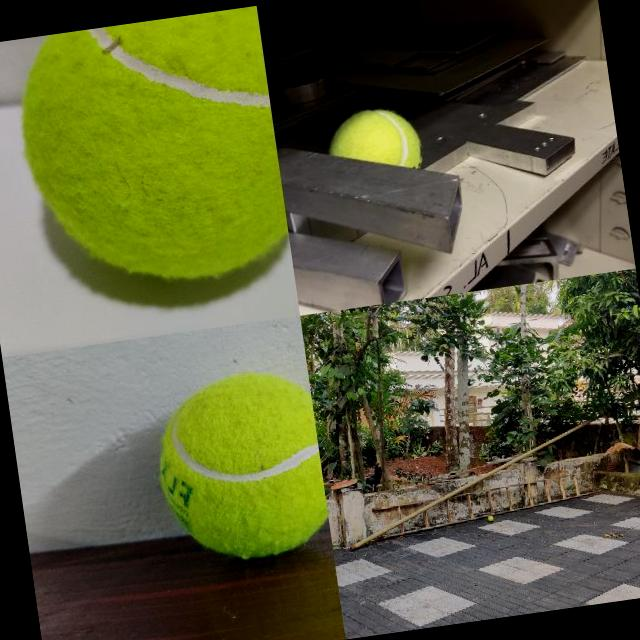Tennis Ball: (6, 5, 293, 302), (146, 363, 332, 570), (324, 100, 422, 153), (488, 514, 494, 522)
